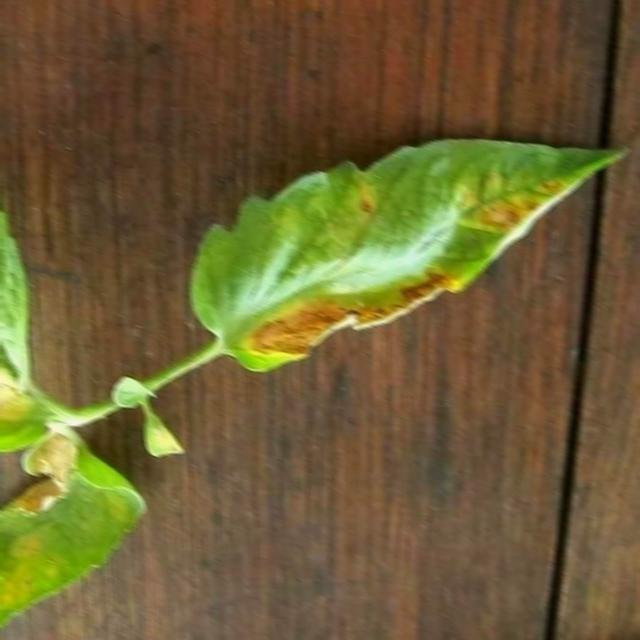Tomato Early blight leaf: (188, 114, 624, 368), (0, 115, 58, 464)
